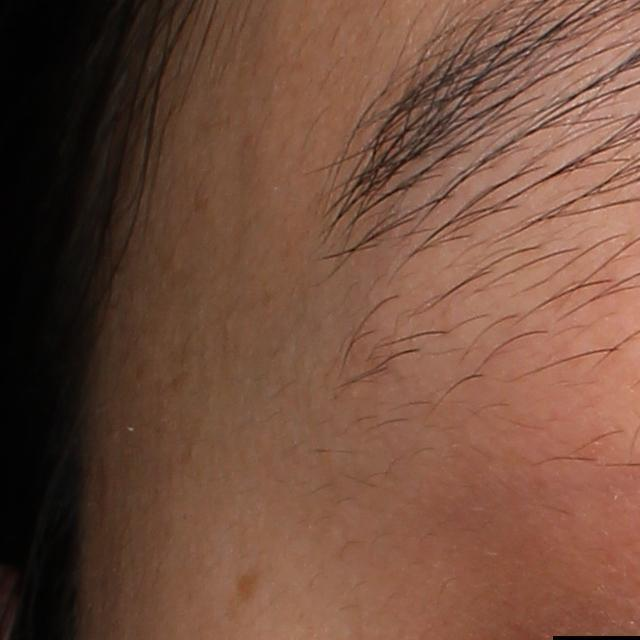melasma: (231, 569, 267, 607)
